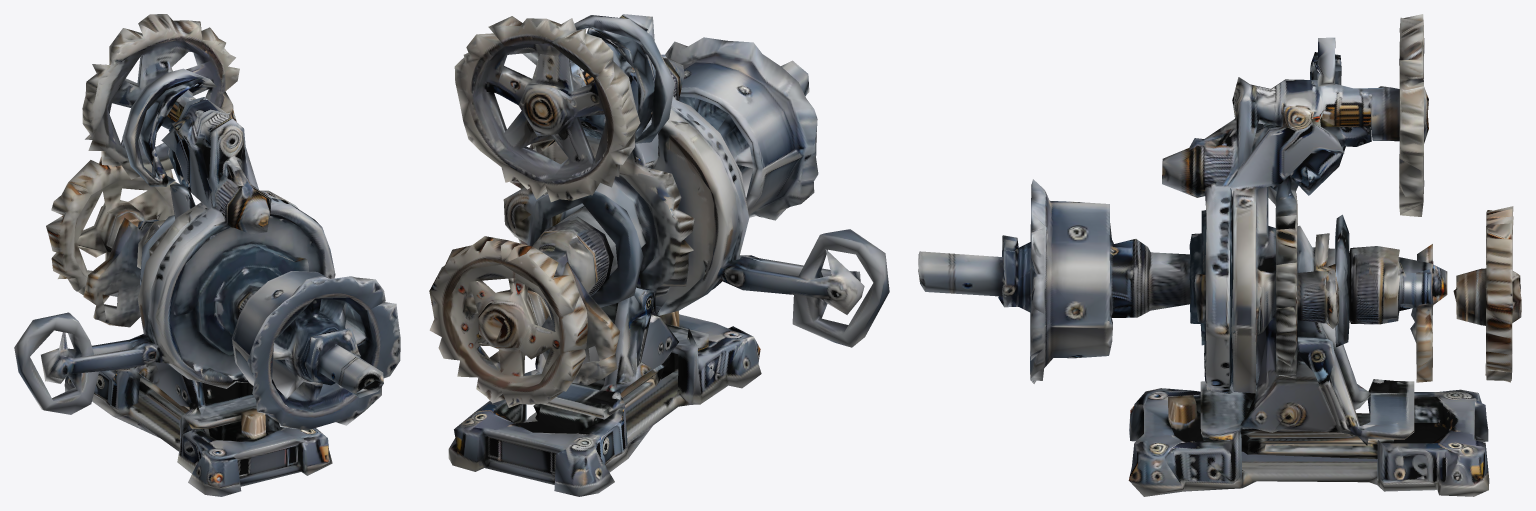
The model's file is engranaje.obj.
3 renders of one model, left to right at view 1: azimuth 30°, elevation 25°; view 2: azimuth 150°, elevation 25°; view 3: azimuth 270°, elevation 25°, orthographic. The views are drawn at different scales.
Parts seen in each view (by area): view 1: tripo_node_6a05de0c-ab7b-414c-8b37-1127ee0211ff; view 2: tripo_node_6a05de0c-ab7b-414c-8b37-1127ee0211ff; view 3: tripo_node_6a05de0c-ab7b-414c-8b37-1127ee0211ff.
Part boxes in pixels (x1,y1,x2,y2): tripo_node_6a05de0c-ab7b-414c-8b37-1127ee0211ff: [14, 14, 400, 496]; tripo_node_6a05de0c-ab7b-414c-8b37-1127ee0211ff: [429, 14, 889, 496]; tripo_node_6a05de0c-ab7b-414c-8b37-1127ee0211ff: [918, 14, 1521, 496].
Size of the model in its own units: 0.6867 by 0.8038 by 0.9986.
1 material, 1 textured.
